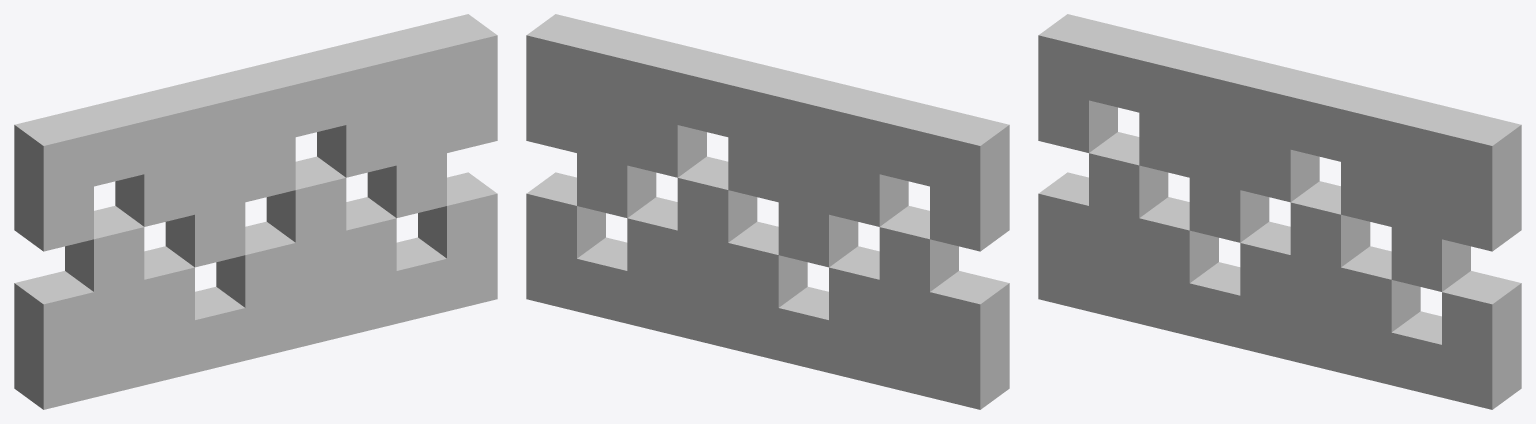
3 renders of one model, left to right at view 1: azimuth 30°, elevation 25°; view 2: azimuth 150°, elevation 25°; view 3: azimuth 330°, elevation 25°, orthographic.
Visible parts, largest first — view 1: 75.2; view 2: 75.2; view 3: 75.2.
Part boxes in pixels (left/top/right/bottom): 75.2: left=14, top=14, right=497, bottom=409; 75.2: left=526, top=14, right=1009, bottom=409; 75.2: left=1038, top=14, right=1521, bottom=409.
Bounding box in the file's own units: 90 × 50 × 10.
1 material, 1 textured.
